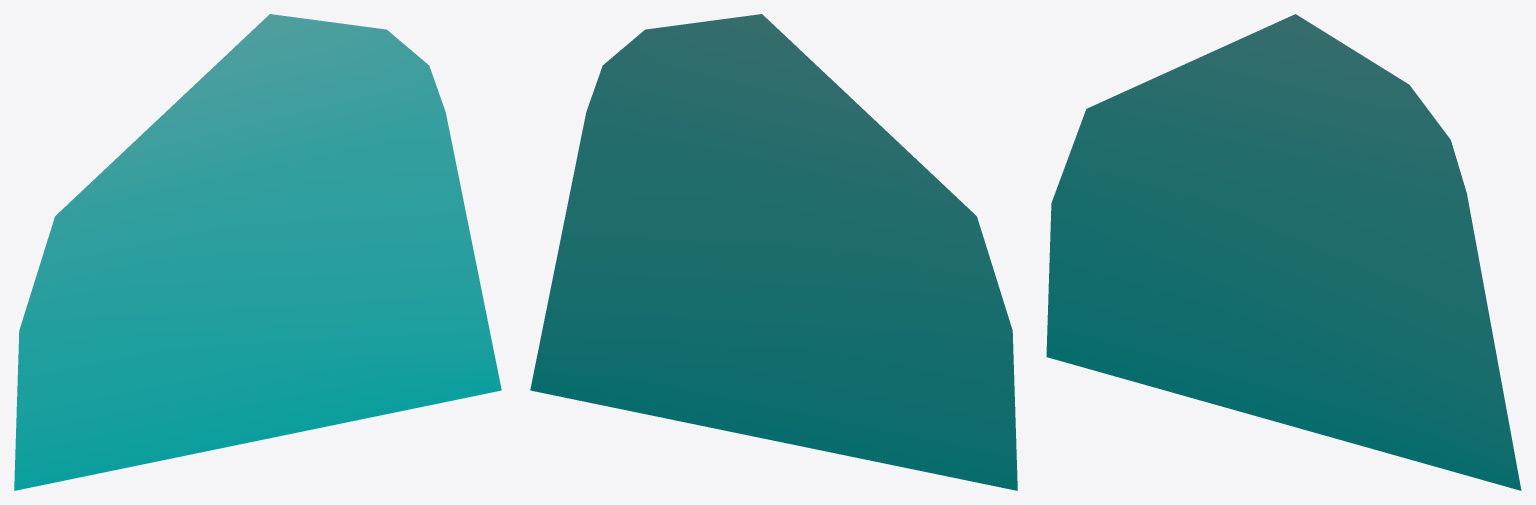
File: Ribbon_Grass_tbdpec3r_High_tbdpec3r_VarB_LOD2.glb
3 views of the same model, side by side, from view 1: azimuth 30°, elevation 25°; view 2: azimuth 150°, elevation 25°; view 3: azimuth 330°, elevation 25° (orthographic). The views are drawn at different scales.
Parts seen in each view (by area): view 1: _dffe_VarB_LOD3; view 2: _dffe_VarB_LOD3; view 3: _dffe_VarB_LOD3.
Boxes of the visible parts, x1,y1,x2,y2 form: _dffe_VarB_LOD3: [14, 14, 501, 490]; _dffe_VarB_LOD3: [530, 14, 1017, 490]; _dffe_VarB_LOD3: [1046, 14, 1521, 490].
Bounding box in the file's own units: 0.5261 × 0.4464 × 6e-08.
